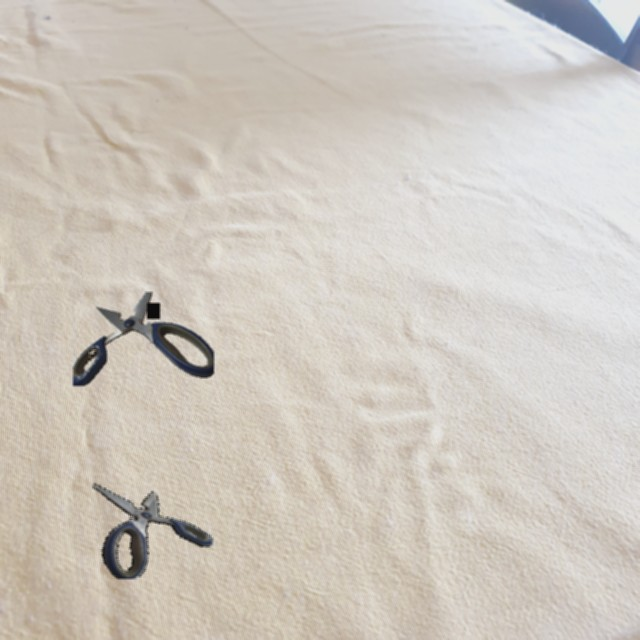scissors: (73, 292, 214, 386), (92, 483, 213, 579)
